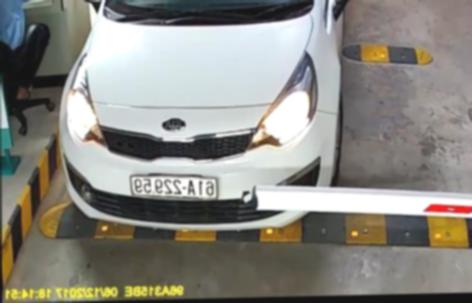License_Plate: (125, 159, 226, 209)
